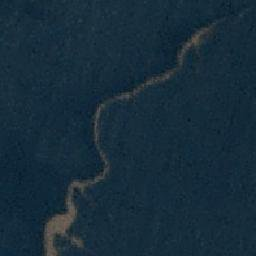debris: (42, 216, 66, 248), (145, 67, 177, 87), (117, 84, 147, 103), (61, 186, 75, 225), (96, 95, 119, 117), (188, 23, 213, 43), (70, 176, 99, 193), (173, 42, 192, 67), (68, 233, 86, 252), (93, 115, 101, 157), (98, 155, 108, 184)
